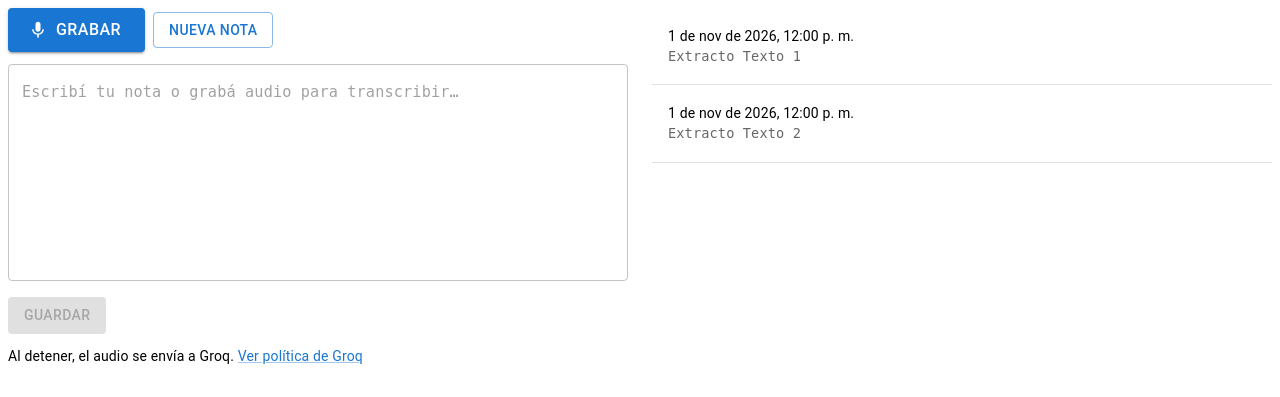
Test: un stop con resultado dispara exactamente un POST de transcripción
Click the button "Grabar" at (76, 30), box x1=8 y1=8 x2=145 y2=52
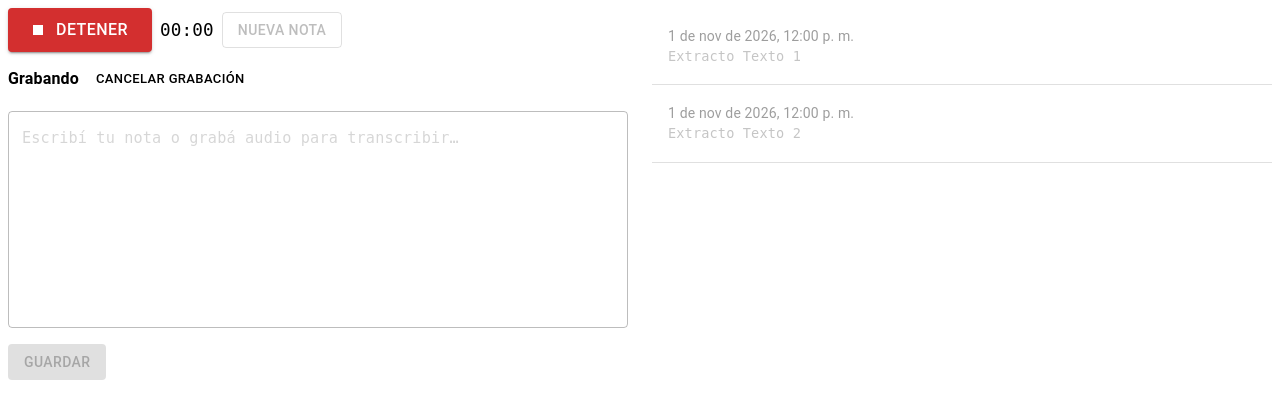
Click the button with aria-label "Detener y transcribir" at (80, 30), box x1=8 y1=8 x2=152 y2=52
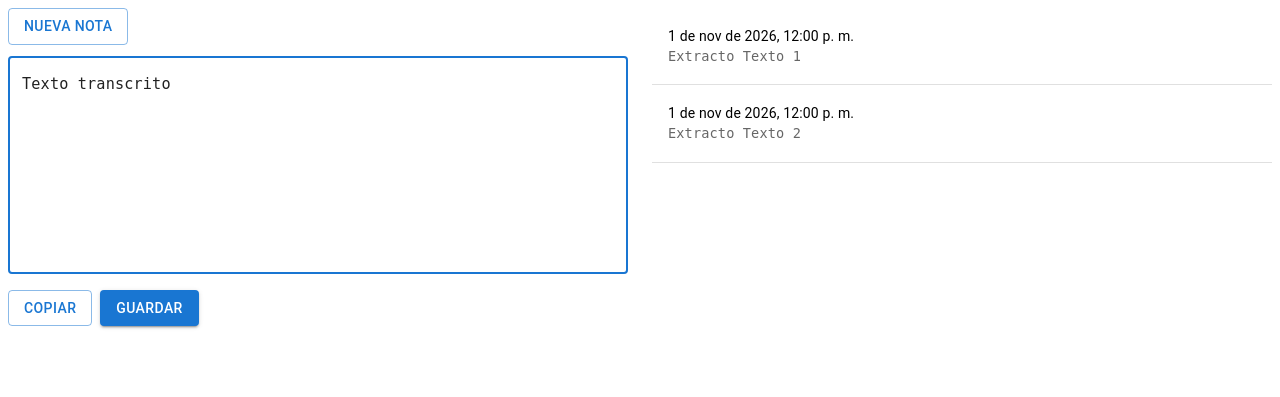
expect the text box named "Texto de la nota" holds "Texto transcrito": met, box x1=22 y1=73 x2=614 y2=257
